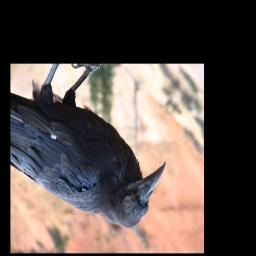Crow: (11, 64, 167, 233)
